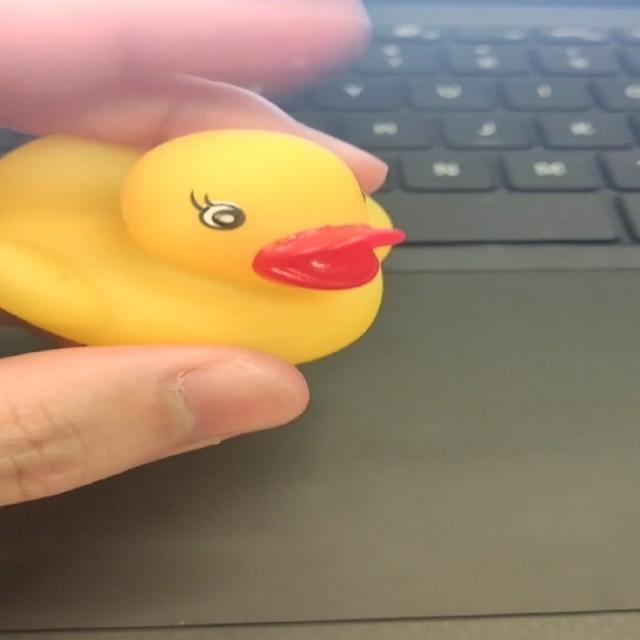rubber-duck: (0, 128, 403, 361)
